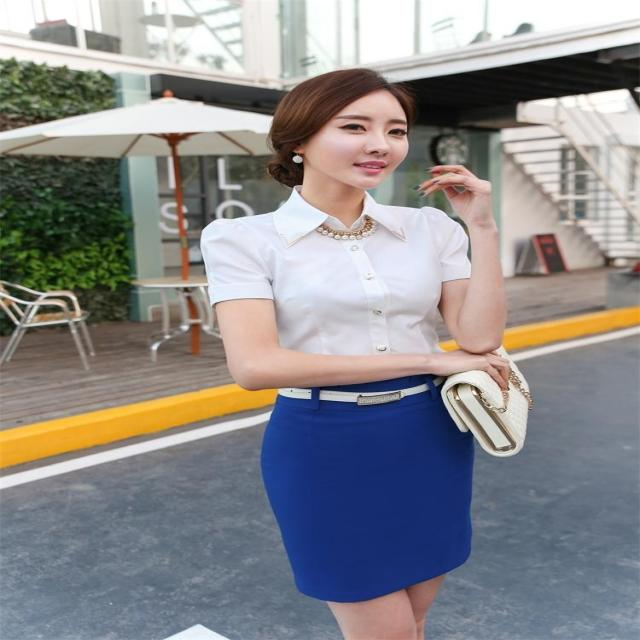short sleeve top: (206, 193, 476, 378)
skirt: (270, 374, 471, 591)
